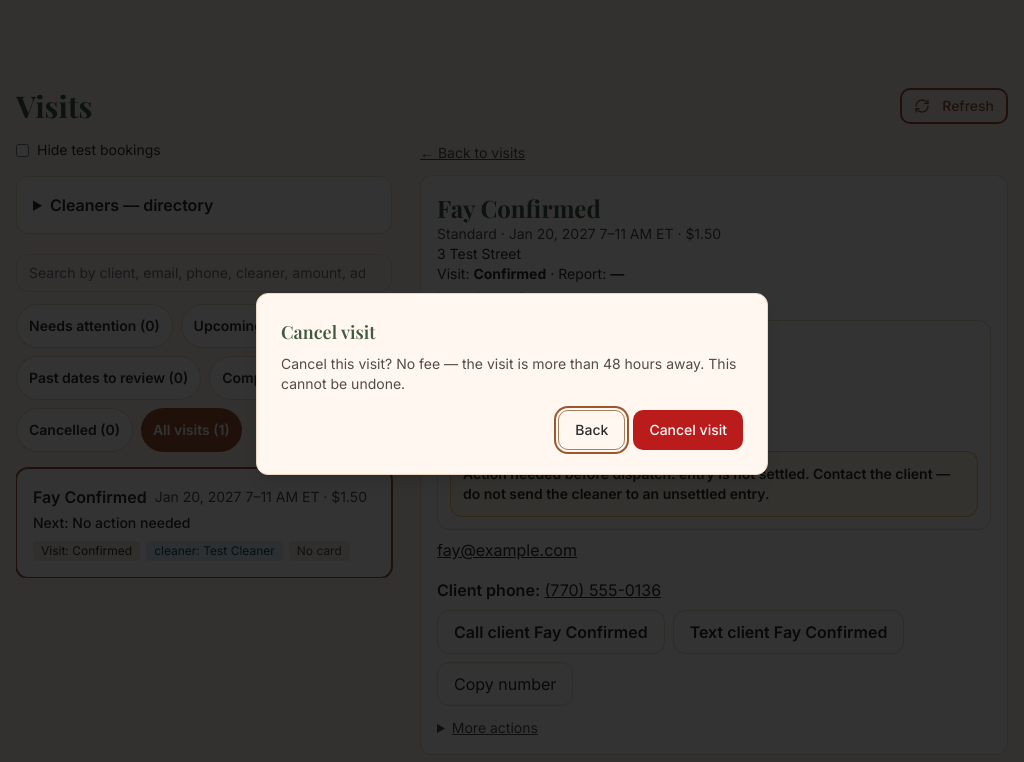
owner cancel visit dialog › opens an in-page dialog showing no fee, and confirming cancels the visit
The image size is (1024, 762).
Earlier steps of the test are not shown.
Expected: the heading "Cancel visit" is shown, [281,320,376,344]
Expected: the text "No fee — the visit is more than 48 hours away" is shown, [281,355,736,392]
Click the button "Cancel visit" at (688, 430), box [633,410,743,450]
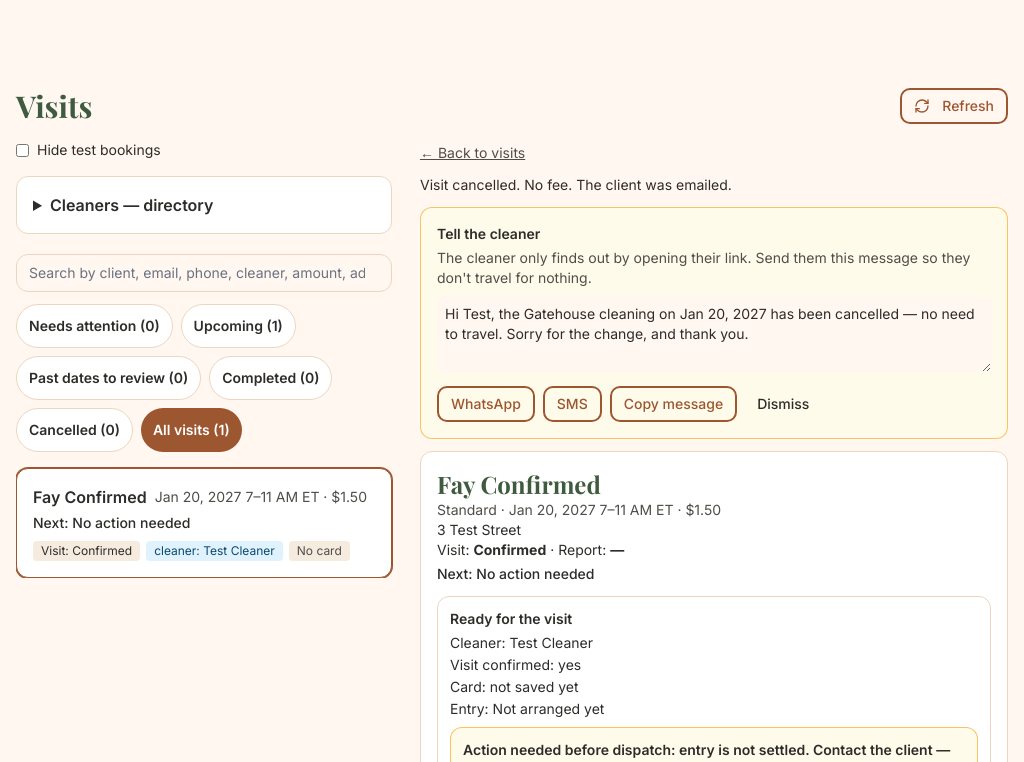
Expected: the text "Visit cancelled. No fee. The client was emailed." is shown, [420,176,732,193]
Expected: the text "Tell the cleaner" is shown, [437,225,540,242]
